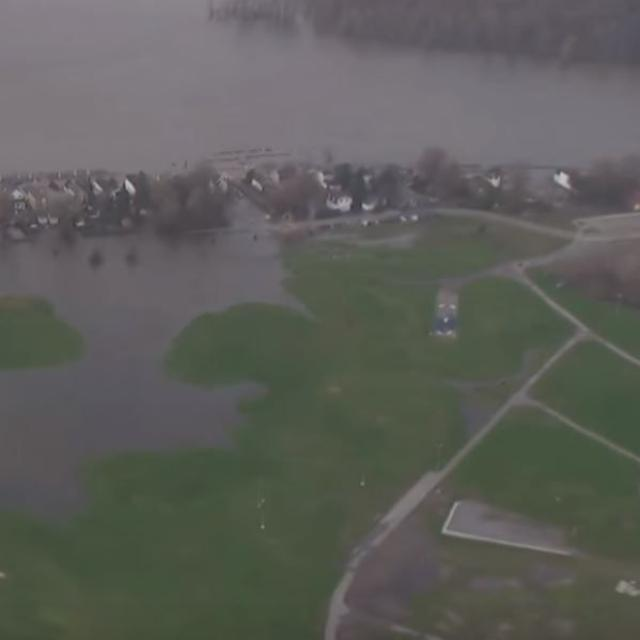flooded_areas: (0, 42, 547, 357)
